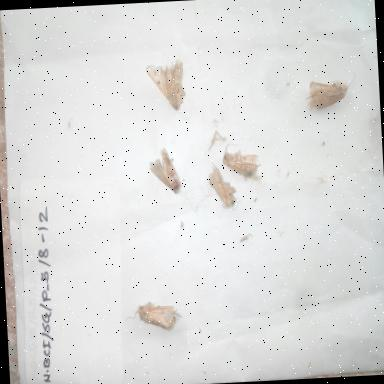abw: (142, 50, 190, 119), (299, 70, 359, 116), (128, 293, 182, 343), (145, 143, 187, 200), (218, 138, 264, 186), (204, 164, 244, 218)
